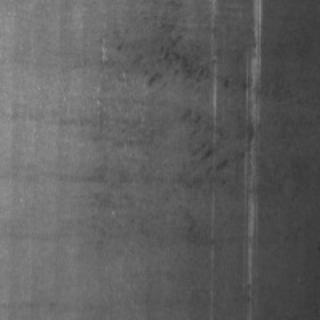scratches: (239, 1, 261, 308)
